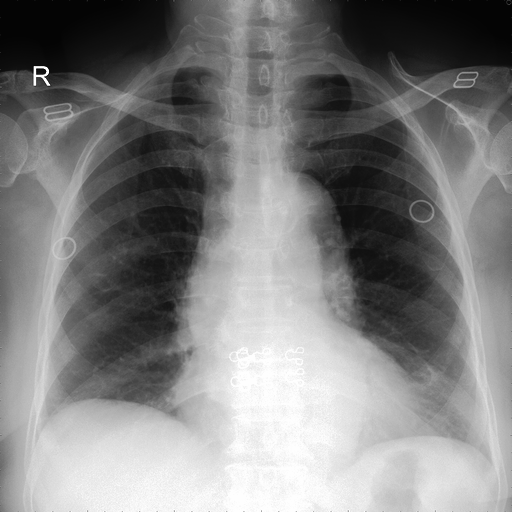Consolidation: (263, 171, 350, 265)
Nodule/Mass: (173, 369, 434, 437)
